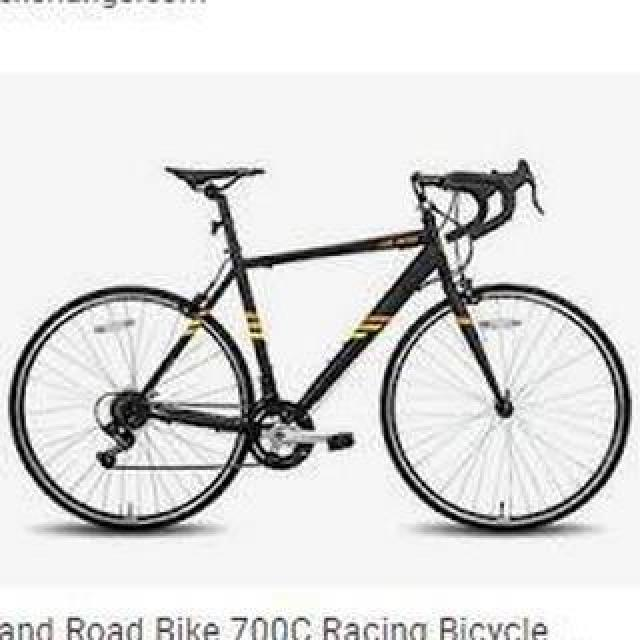Person: (3, 156, 637, 540)
